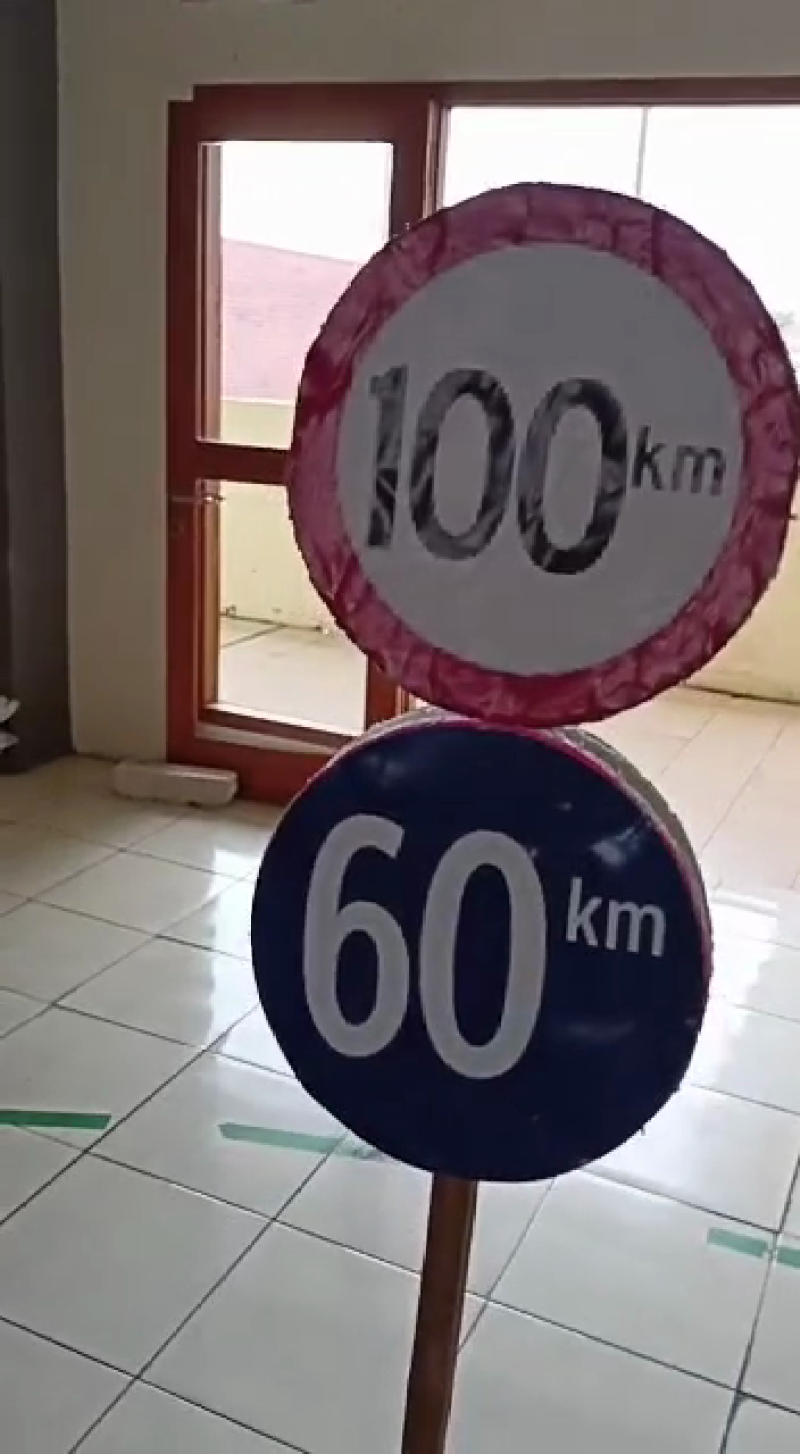batas maksimal 100kmperjam minimal 60kmperjam: (240, 183, 800, 1202)
